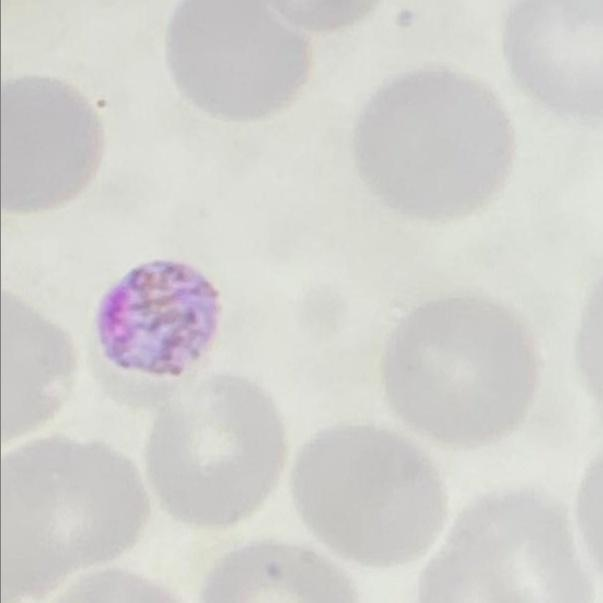Infected: (92, 259, 217, 399)
Uninfected: (0, 436, 147, 603), (357, 67, 515, 220), (383, 296, 537, 447), (293, 424, 443, 569), (145, 379, 285, 534), (418, 489, 593, 603), (165, 0, 309, 124), (0, 77, 104, 216)
